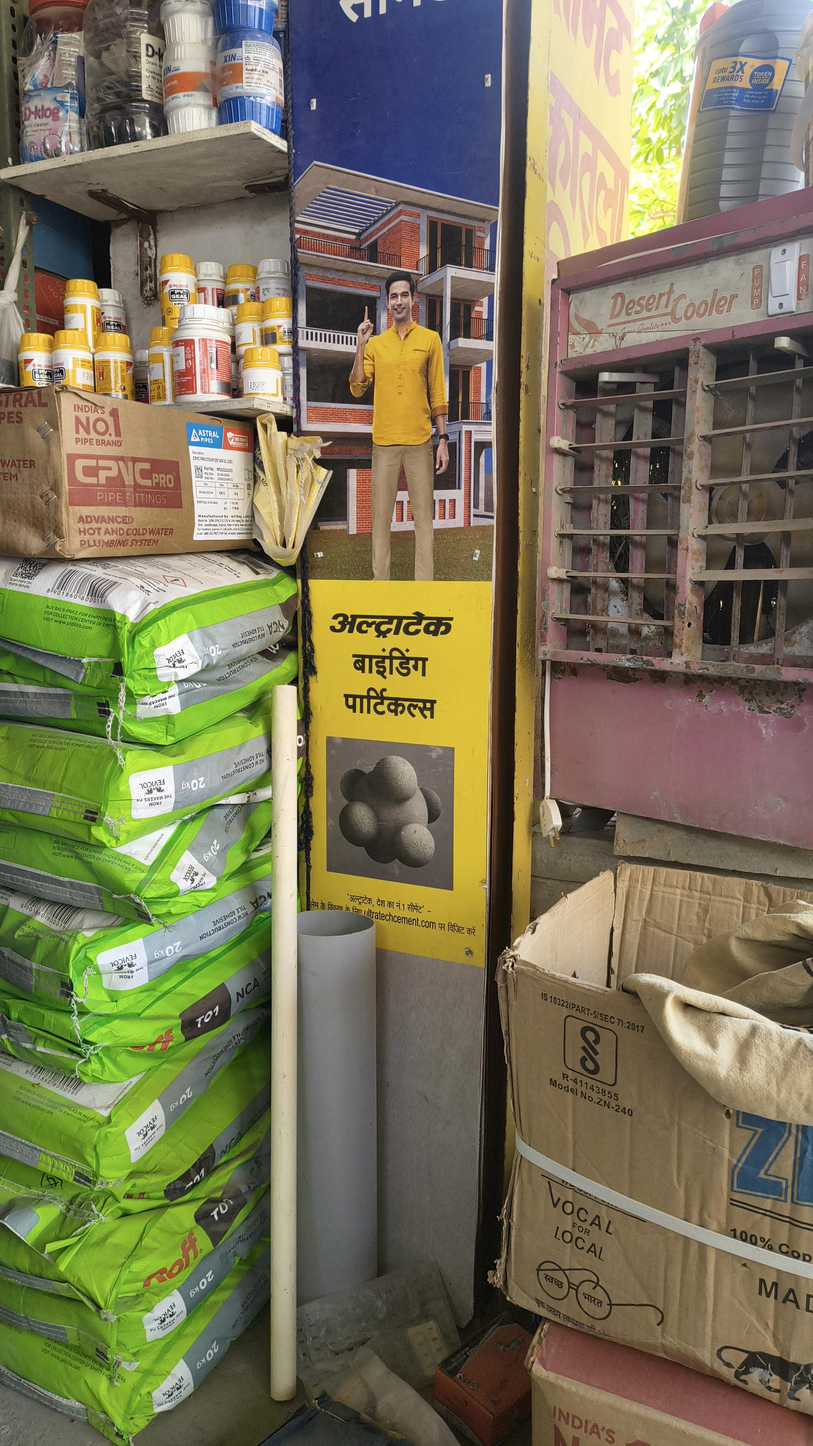Araldite _XIN EPOXY RESIN: (217, 30, 289, 130), (214, 2, 284, 27)
Araldite_XIN EPOXY HARDENER: (161, 46, 218, 134), (158, 0, 215, 45)
D-klog_Drain Cleaner: (14, 2, 88, 154), (90, 2, 160, 140)
PV-Seal_CPVC SOLVENT CEMENT: (64, 278, 105, 351), (158, 253, 199, 321), (54, 334, 97, 391), (96, 335, 133, 401), (13, 334, 56, 388), (261, 298, 298, 354), (242, 348, 281, 397), (150, 329, 173, 404), (233, 302, 260, 351), (227, 264, 257, 307)
PV-Seal_PVC SOLVENT CEMENT: (185, 319, 249, 417), (173, 304, 232, 405), (260, 259, 295, 295), (103, 287, 130, 332), (197, 262, 225, 304), (136, 348, 149, 399), (282, 356, 293, 407)
Roff_T01 NCA New Construction Tile Adhesive: (0, 1230, 274, 1446), (2, 1110, 275, 1317), (4, 1182, 273, 1367), (3, 1010, 270, 1193), (2, 1042, 273, 1220), (1, 852, 274, 1017), (1, 550, 301, 699), (1, 921, 272, 1082), (1, 696, 273, 848), (1, 788, 272, 925), (0, 642, 301, 748)
poster: (297, 0, 547, 998)
